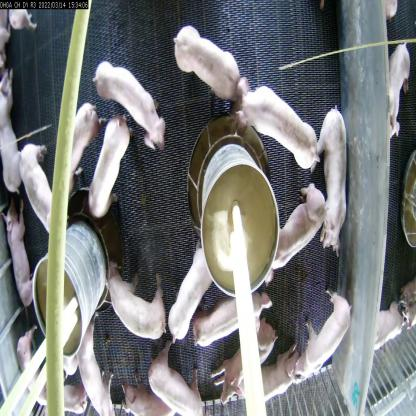Pig: (231, 72, 316, 173), (95, 56, 176, 155), (301, 96, 349, 253), (290, 283, 351, 388), (7, 121, 63, 234), (100, 264, 170, 350), (213, 317, 278, 408), (174, 24, 241, 107), (272, 173, 323, 282), (72, 316, 128, 415), (166, 236, 215, 346), (86, 111, 128, 233), (199, 282, 273, 346), (3, 197, 38, 332), (144, 350, 212, 415), (0, 70, 32, 198), (386, 27, 416, 163), (243, 342, 300, 400), (70, 99, 101, 200), (10, 333, 46, 415), (121, 370, 170, 415), (48, 365, 88, 414)
